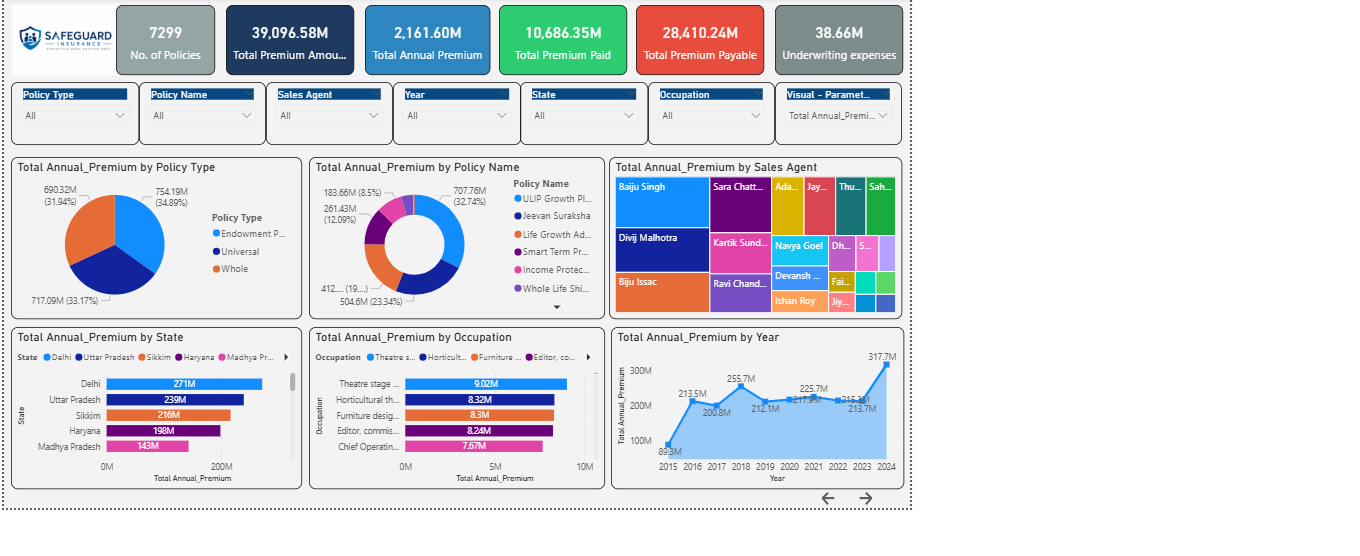

The page's visual inventory and layout, read from the dashboard file:
{"tool":"powerbi","page":{"name":"Insurance Overview","canvas":[1280,720],"ordinal":1},"visuals":[{"type":"image","box":[0,10,170,98.6],"z":0},{"type":"slicer","fields":{"Values":["DM Policy_Type.Policy Type"]},"box":[9.9,118.6,180.7,88.9],"z":1000},{"type":"slicer","fields":{"Values":["DM Policy_Protection_Plan.Policy Name"]},"box":[190.6,118.6,179.3,88.9],"z":2000},{"type":"slicer","fields":{"Values":["DM Insurance_Agent_Table.Sales Agent"]},"box":[369.9,118.6,179.3,88.9],"z":3000},{"type":"slicer","fields":{"Values":["FCT Insurance_Policy_Table.Date of Purchase.Variation.Date Hierarchy.Year"]},"box":[549.2,118.6,180.7,88.9],"z":4000},{"type":"slicer","fields":{"Values":["DM Customer_Detail_Table.State"]},"box":[728.5,118.6,180.7,88.9],"z":5000},{"type":"slicer","fields":{"Values":["DM Customer_Detail_Table.Occupation"]},"box":[909.2,118.6,179.3,88.9],"z":6000},{"type":"slicer","fields":{"Values":["Visual - Parameter.Visual - Parameter"]},"box":[1088.5,118.6,179.3,88.9],"z":7000},{"type":"pieChart","fields":{"Y":["FCT Insurance_Policy_Table.Total Annual_Premium"],"Category":["DM Policy_Type.Policy Type"]},"box":[9.9,224.5,410.8,228.7],"z":8000},{"type":"donutChart","fields":{"Y":["FCT Insurance_Policy_Table.Total Annual_Premium"],"Category":["DM Policy_Protection_Plan.Policy Name"]},"box":[430.6,224.5,417.9,228.7],"z":9000},{"type":"treemap","fields":{"Values":["FCT Insurance_Policy_Table.Total Annual_Premium"],"Group":["DM Insurance_Agent_Table.Sales Agent"]},"box":[854.1,224.5,413.6,228.7],"z":10000},{"type":"barChart","title":"Total Annual_Premium by State","fields":{"Y":["FCT Insurance_Policy_Table.Total Annual_Premium"],"Category":["DM Customer_Detail_Table.State"],"Series":["DM Customer_Detail_Table.State"]},"box":[9.9,464.5,410.8,228.7],"z":11000},{"type":"barChart","title":"Total Annual_Premium by Occupation ","fields":{"Y":["FCT Insurance_Policy_Table.Total Annual_Premium"],"Category":["DM Customer_Detail_Table.Occupation"],"Series":["DM Customer_Detail_Table.Occupation"]},"box":[430.6,464.5,417.9,228.7],"z":12000},{"type":"areaChart","fields":{"Y":["FCT Insurance_Policy_Table.Total Annual_Premium"],"Category":["FCT Insurance_Policy_Table.Start Date.Variation.Date Hierarchy.Year"]},"box":[856.9,464.5,413.6,228.7],"z":13000},{"type":"card","fields":{"Values":["CountNonNull(DM Customer_Detail_Table.Customer ID)"]},"box":[158.1,9.9,139.8,98.8],"z":14000},{"type":"card","fields":{"Values":["Sum(FCT Insurance_Policy_Table.Total Premium Amount)"]},"box":[313.4,9.9,180.7,98.8],"z":15000},{"type":"card","fields":{"Values":["Sum(FCT Insurance_Policy_Table.Total Annual Premium)"]},"box":[510,10,177.1,98.6],"z":16000},{"type":"card","fields":{"Values":["Sum(FCT Insurance_Policy_Table.Total Premium Paid)"]},"box":[698.6,10,181.4,98.6],"z":17000},{"type":"card","fields":{"Values":["Sum(FCT Insurance_Policy_Table.Total Premium Payable)"]},"box":[892.9,10,181.4,98.6],"z":18000},{"type":"card","fields":{"Values":["Sum(FCT Insurance_Policy_Table.Underwriting expenses)"]},"box":[1088.6,10,181.4,98.6],"z":19000},{"type":"actionButton","box":[1202.8,693.2,77.6,26.8],"z":20000},{"type":"actionButton","box":[1150.6,693.2,55.1,26.8],"z":21000}]}

Visuals, with their boxes on the page's 1280x720 design canvas (x1, y1, x2, y2). These are canvas units, not pixel positions in the 1360x556 screenshot, which may show the page scaled, cropped or inside an application window:
image: pyautogui.locateOnScreen(0, 10, 170, 109)
slicer - DM Policy_Type.Policy Type: pyautogui.locateOnScreen(10, 119, 191, 208)
slicer - DM Policy_Protection_Plan.Policy Name: pyautogui.locateOnScreen(191, 119, 370, 208)
slicer - DM Insurance_Agent_Table.Sales Agent: pyautogui.locateOnScreen(370, 119, 549, 208)
slicer - FCT Insurance_Policy_Table.Date of Purchase.Variation.Date Hierarchy.Year: pyautogui.locateOnScreen(549, 119, 730, 208)
slicer - DM Customer_Detail_Table.State: pyautogui.locateOnScreen(728, 119, 909, 208)
slicer - DM Customer_Detail_Table.Occupation: pyautogui.locateOnScreen(909, 119, 1088, 208)
slicer - Visual - Parameter.Visual - Parameter: pyautogui.locateOnScreen(1088, 119, 1268, 208)
pieChart - FCT Insurance_Policy_Table.Total Annual_Premium x DM Policy_Type.Policy Type: pyautogui.locateOnScreen(10, 224, 421, 453)
donutChart - FCT Insurance_Policy_Table.Total Annual_Premium x DM Policy_Protection_Plan.Policy Name: pyautogui.locateOnScreen(431, 224, 848, 453)
treemap - FCT Insurance_Policy_Table.Total Annual_Premium x DM Insurance_Agent_Table.Sales Agent: pyautogui.locateOnScreen(854, 224, 1268, 453)
"Total Annual_Premium by State" barChart: pyautogui.locateOnScreen(10, 464, 421, 693)
"Total Annual_Premium by Occupation " barChart: pyautogui.locateOnScreen(431, 464, 848, 693)
areaChart - FCT Insurance_Policy_Table.Total Annual_Premium x FCT Insurance_Policy_Table.Start Date.Variation.Date Hierarchy.Year: pyautogui.locateOnScreen(857, 464, 1270, 693)
card - CountNonNull(DM Customer_Detail_Table.Customer ID): pyautogui.locateOnScreen(158, 10, 298, 109)
card - Sum(FCT Insurance_Policy_Table.Total Premium Amount): pyautogui.locateOnScreen(313, 10, 494, 109)
card - Sum(FCT Insurance_Policy_Table.Total Annual Premium): pyautogui.locateOnScreen(510, 10, 687, 109)
card - Sum(FCT Insurance_Policy_Table.Total Premium Paid): pyautogui.locateOnScreen(699, 10, 880, 109)
card - Sum(FCT Insurance_Policy_Table.Total Premium Payable): pyautogui.locateOnScreen(893, 10, 1074, 109)
card - Sum(FCT Insurance_Policy_Table.Underwriting expenses): pyautogui.locateOnScreen(1089, 10, 1270, 109)
actionButton: pyautogui.locateOnScreen(1203, 693, 1280, 720)
actionButton: pyautogui.locateOnScreen(1151, 693, 1206, 720)
